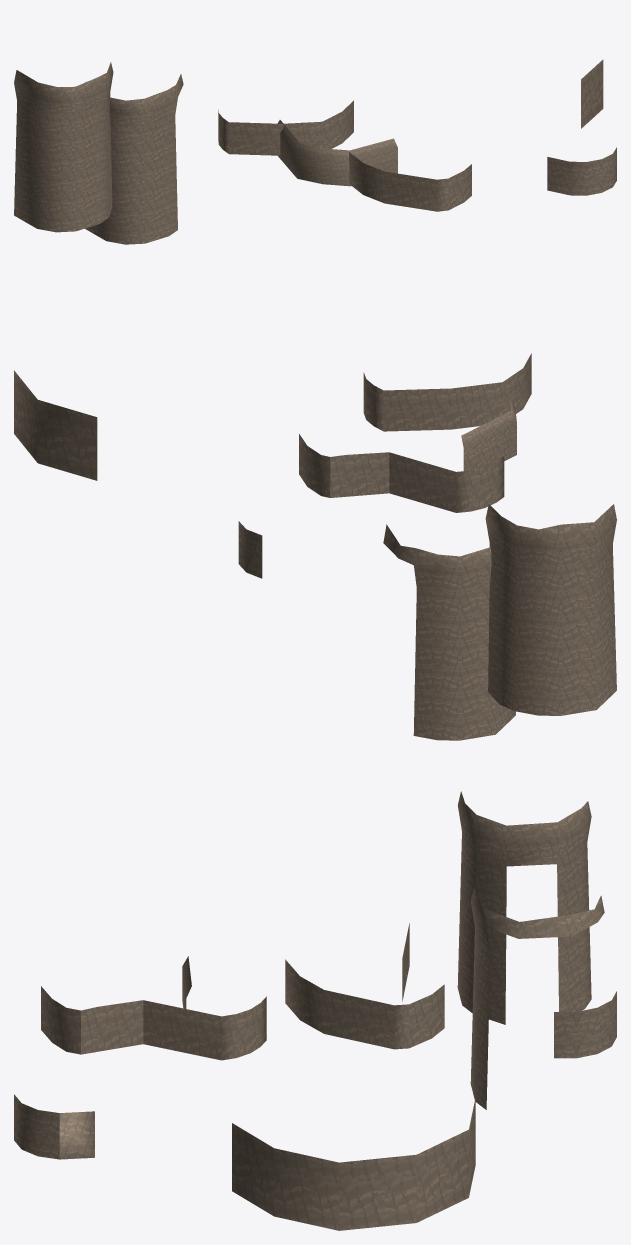
The model's file is kd_connection_world-outer_surface_16_1.glb.
3 renders of one model, top to bottom at view 1: azimuth 30°, elevation 25°; view 2: azimuth 150°, elevation 25°; view 3: azimuth 270°, elevation 25°, orthographic. The views are drawn at different scales.
Parts seen in each view (by area): view 1: kd_connection_world-outer_surface_16_1; view 2: kd_connection_world-outer_surface_16_1; view 3: kd_connection_world-outer_surface_16_1.
Boxes of the visible parts, box(x1,y1,x2,y2) form: kd_connection_world-outer_surface_16_1: box(14, 59, 616, 244); kd_connection_world-outer_surface_16_1: box(14, 353, 616, 740); kd_connection_world-outer_surface_16_1: box(14, 791, 616, 1230).
Size of the model in its own units: 635 by 215 by 471.
Materials: 1 (1 with a texture image).
